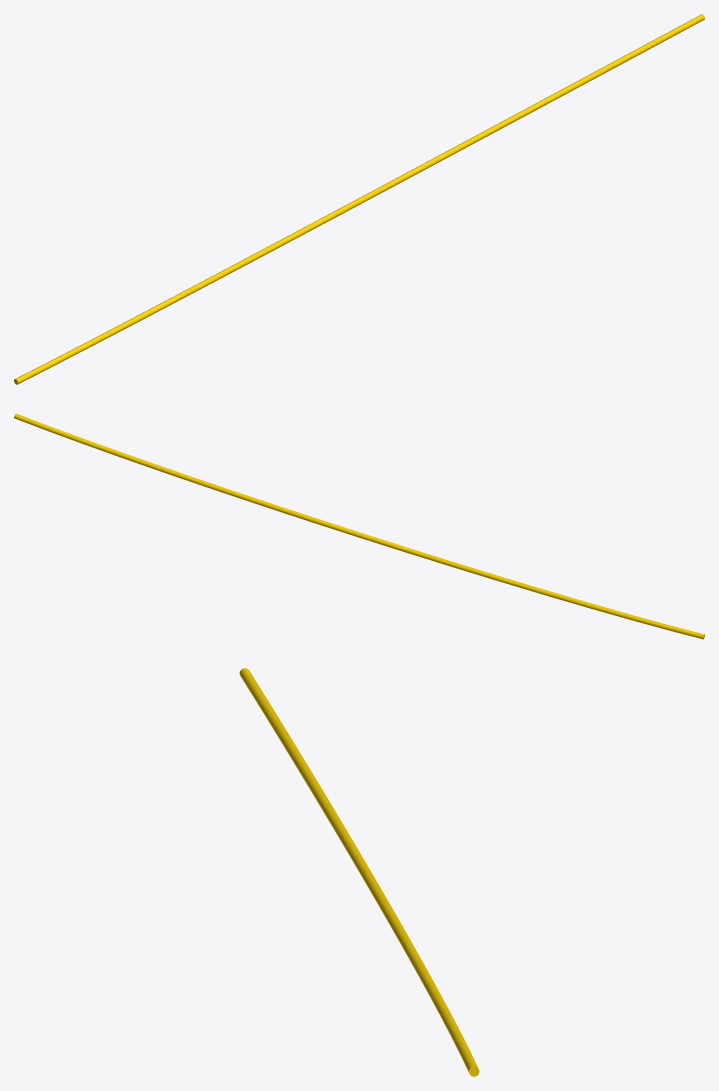
The model's file is Event_421278790_track_22.fbx.
3 renders of one model, top to bottom at view 1: azimuth 30°, elevation 25°; view 2: azimuth 150°, elevation 25°; view 3: azimuth 270°, elevation 25°, orthographic. The views are drawn at different scales.
Parts seen in each view (by area): view 1: Model; view 2: Model; view 3: Model.
Part boxes in pixels (box(x1,y1,x2,y2)): Model: box(14, 14, 704, 384); Model: box(14, 413, 704, 639); Model: box(239, 668, 479, 1076).
Bounding box in the file's own units: 5.54 × 0.9504 × 0.9091.
